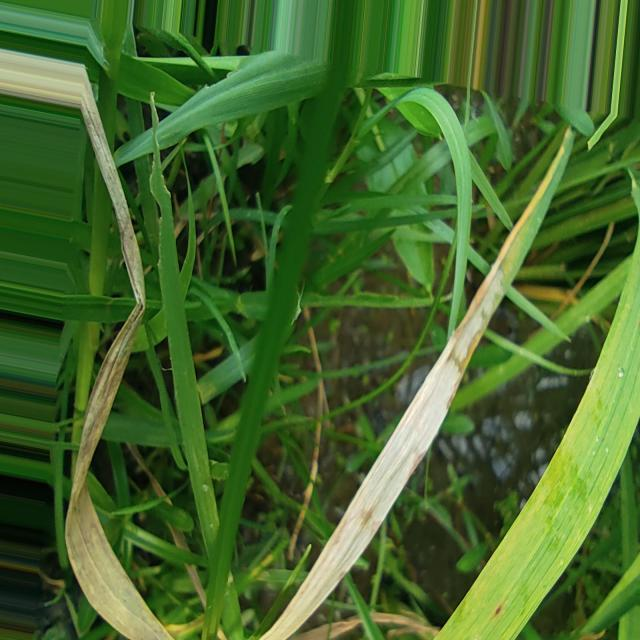Brown_Spot: (495, 605, 502, 618)
Rice False Smut: (262, 265, 505, 638)
